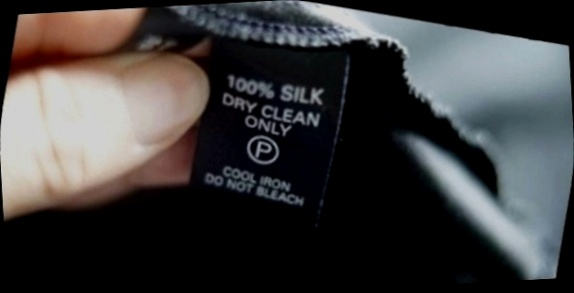dry_clean_any_solvent_except_trichloroethylene: (240, 126, 289, 173)
